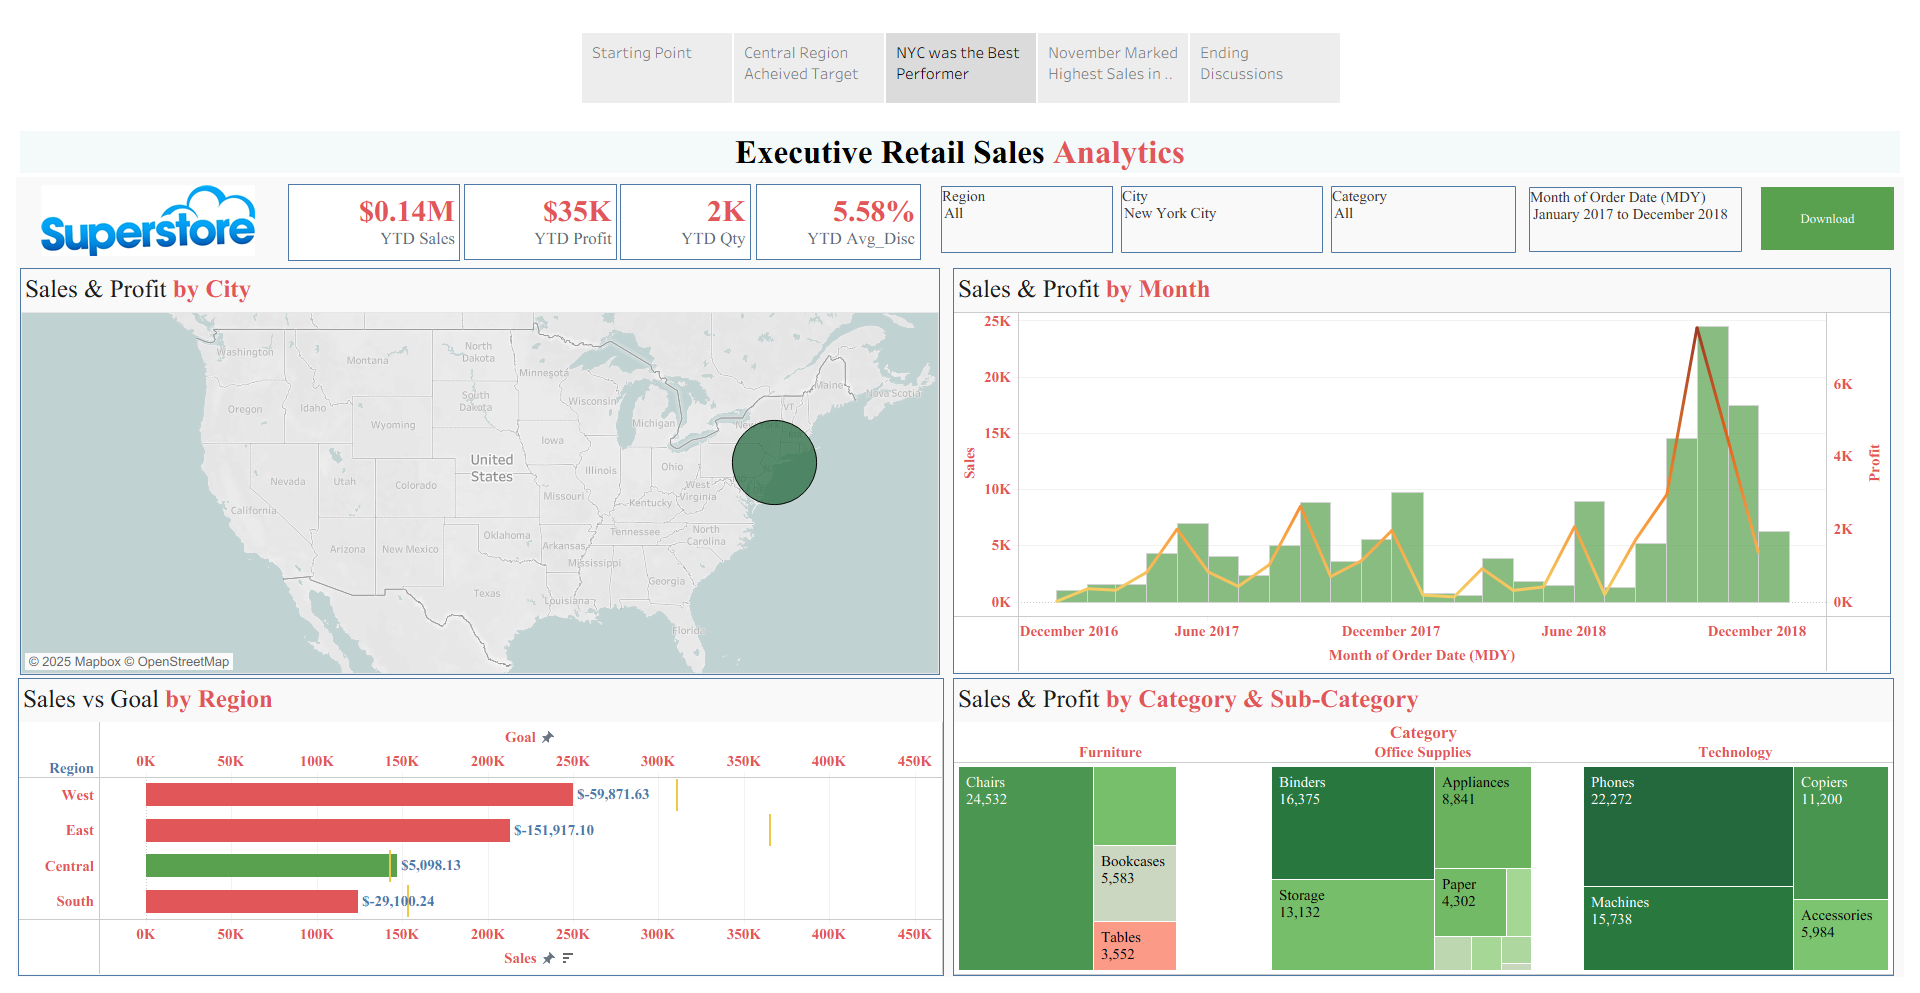

Layout of this report page (visuals, bound fields, positions):
{"tool":"tableau","page":{"name":"Dashboard","canvas":[1000,1000],"units":"permille","ordinal":0},"visuals":[{"type":"title","box":[4.8,10,990.3,62.4]},{"type":"worksheet","title":"Discount","mark":"Automatic","box":[360.9,61.2,81.5,101.1]},{"type":"worksheet","title":"Profit","mark":"Automatic","box":[228.1,62.4,62.8,91.1]},{"type":"worksheet","title":"Quantity","mark":"Automatic","box":[299.9,62.4,62.8,98.6]},{"type":"worksheet","title":"Sales","mark":"Automatic","box":[143,63.7,75.4,101.1]},{"type":"worksheet","title":"City_wise","mark":"Automatic","box":[446,73.7,546.2,559.3]},{"type":"image","param":"Image/superstore.jpg","box":[7.2,78.7,135.2,76.2]},{"type":"dashboard-object","box":[382.6,171,58.5,64.9]},{"type":"filter","title":"Tree_Map","param":"[federated.1f22b5c0wxcofl1f5gr9v0yenl70].[none:Category:nk]","box":[181.7,172.3,84.5,64.9]},{"type":"filter","title":"Time_series","param":"[federated.1f22b5c0wxcofl1f5gr9v0yenl70].[tmn:Order Date (MDY):qk]","box":[267.9,172.3,109.2,64.9]},{"type":"filter","title":"Target_vs_Achieved","param":"[federated.1f22b5c0wxcofl1f5gr9v0yenl70].[none:Region:nk]","box":[7.2,173.5,74.8,62.4]},{"type":"filter","title":"City_wise","param":"[federated.1f22b5c0wxcofl1f5gr9v0yenl70].[none:City:nk]","box":[83.3,173.5,94.8,64.9]},{"type":"worksheet","title":"Target_vs_Achieved","mark":"Automatic","rows":["Region"],"cols":["Sales","Goal"],"box":[7.2,245.9,433.9,384.5]},{"type":"worksheet","title":"Time_series","mark":"Automatic","rows":["Sales","Profit"],"cols":["Order Date (MDY)"],"box":[6,638,516.8,352.1]},{"type":"worksheet","title":"Tree_Map","mark":"Automatic","cols":["Category"],"box":[526.4,638,464,352.1]}]}

Visuals, with their boxes on the dashboard's canvas, which has no fixed pixel size, in thousandths of its width and height (x1, y1, x2, y2). These are canvas units, not pixel positions in the 1920x993 screenshot, which may show the page scaled, cropped or inside an application window:
title: 5,10,995,72
"Discount" worksheet: 361,61,442,162
"Profit" worksheet: 228,62,291,154
"Quantity" worksheet: 300,62,363,161
"Sales" worksheet: 143,64,218,165
"City_wise" worksheet: 446,74,992,633
image: 7,79,142,155
dashboard-object: 383,171,441,236
"Tree_Map" filter: 182,172,266,237
"Time_series" filter: 268,172,377,237
"Target_vs_Achieved" filter: 7,174,82,236
"City_wise" filter: 83,174,178,238
"Target_vs_Achieved" worksheet: 7,246,441,630
"Time_series" worksheet: 6,638,523,990
"Tree_Map" worksheet: 526,638,990,990
